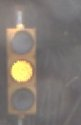Yellow: (5, 15, 43, 125)
